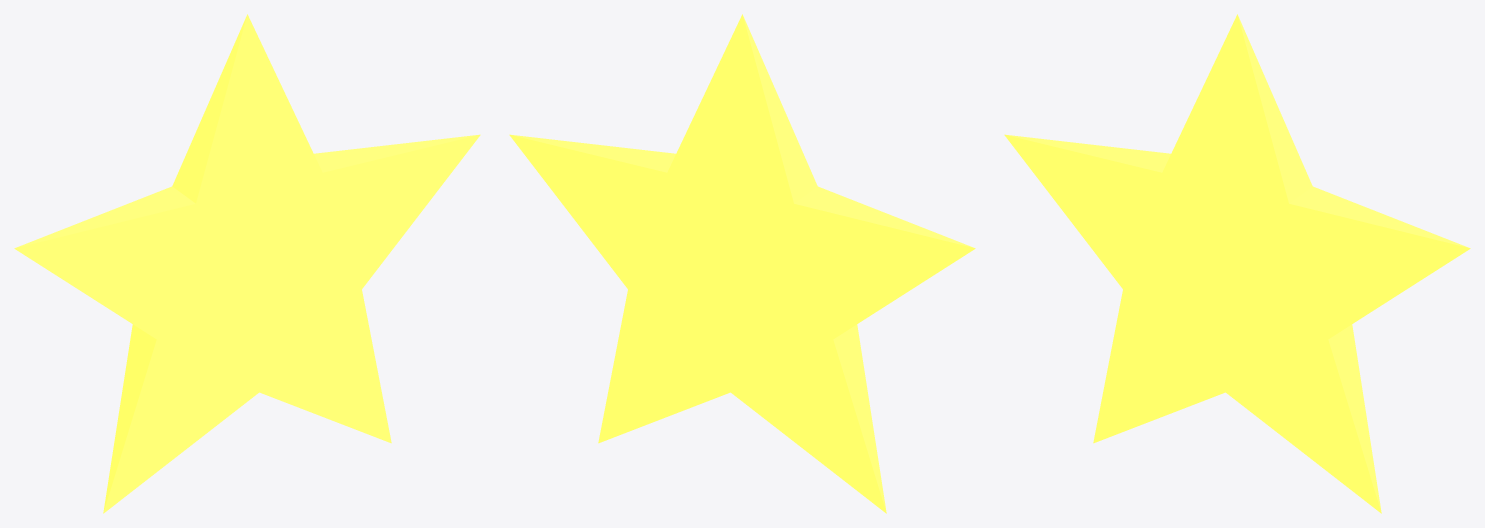
File: Star Icon.fbx
3 views of the same model, side by side, from view 1: azimuth 30°, elevation 25°; view 2: azimuth 150°, elevation 25°; view 3: azimuth 330°, elevation 25° (orthographic).
Visible parts, largest first — view 1: Circle; view 2: Circle; view 3: Circle.
Boxes of the visible parts, box(x1,y1,x2,y2) form: Circle: box(14, 14, 480, 513); Circle: box(509, 14, 975, 513); Circle: box(1004, 14, 1470, 513).
Size of the model in its own units: 169 by 160 by 14.85.
